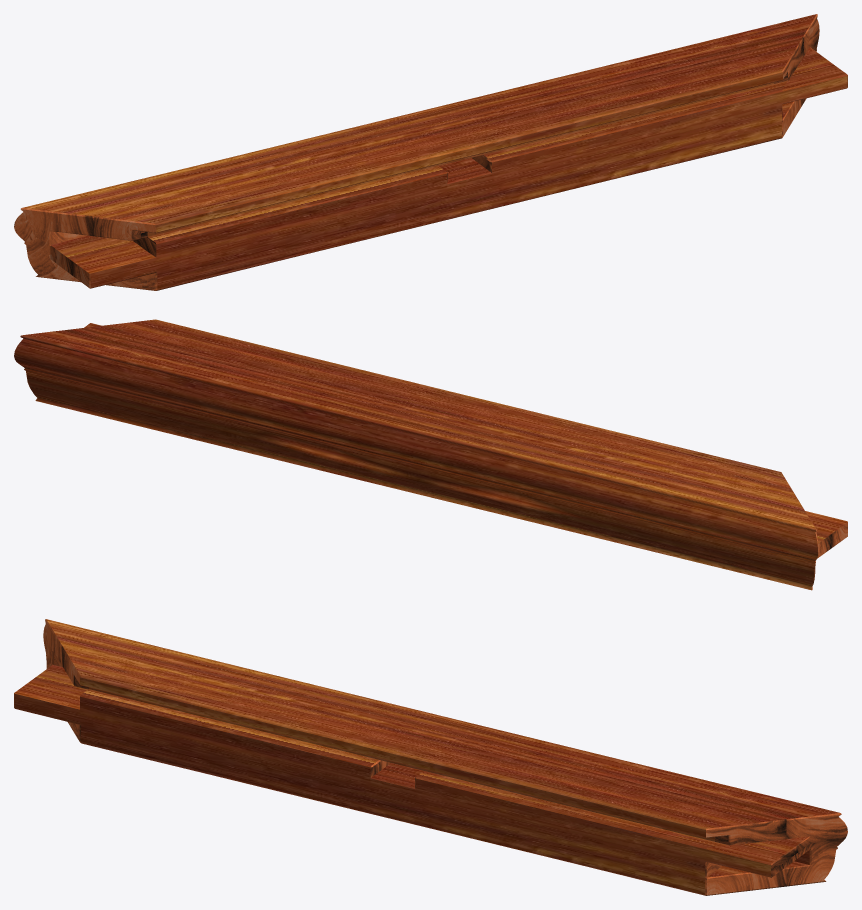
File: changfangwu_J_D_dengmian_01.FBX
3 renders of one model, top to bottom at view 1: azimuth 30°, elevation 25°; view 2: azimuth 150°, elevation 25°; view 3: azimuth 330°, elevation 25°, orthographic.
Parts seen in each view (by area): view 1: changfangwu_J_D_dengmian_01; view 2: changfangwu_J_D_dengmian_01; view 3: changfangwu_J_D_dengmian_01.
Boxes of the visible parts, box(x1,y1,x2,y2) form: changfangwu_J_D_dengmian_01: box(14, 14, 847, 290); changfangwu_J_D_dengmian_01: box(14, 319, 847, 590); changfangwu_J_D_dengmian_01: box(14, 619, 847, 895).
Bounding box in the file's own units: 52.69 × 4.21 × 6.01.
Materials: 2 (2 with a texture image).
